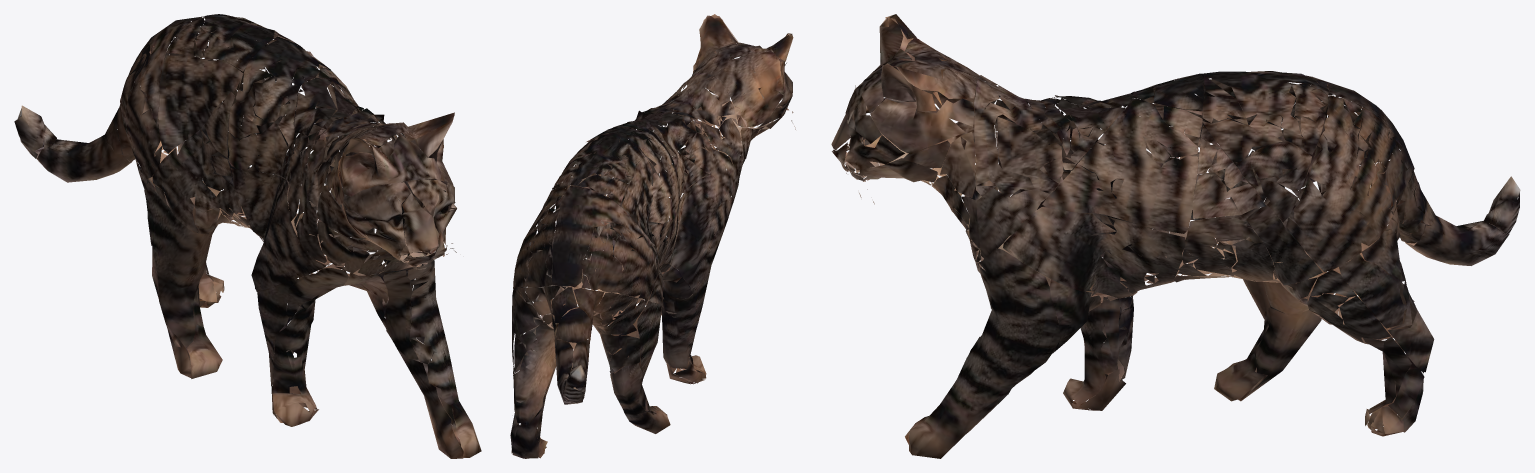
The model's file is doll.glb.
3 views of the same model, side by side, from view 1: azimuth 30°, elevation 25°; view 2: azimuth 150°, elevation 25°; view 3: azimuth 270°, elevation 25° (orthographic). The views are drawn at different scales.
Visible parts, largest first — view 1: mesh_node_0; view 2: mesh_node_0; view 3: mesh_node_0.
Boxes of the visible parts, x1,y1,x2,y2 form: mesh_node_0: [14, 14, 481, 458]; mesh_node_0: [510, 14, 795, 458]; mesh_node_0: [831, 14, 1520, 458].
Bounding box in the file's own units: 0.165 × 0.3 × 0.4967.
Materials: 1 (1 with a texture image).
